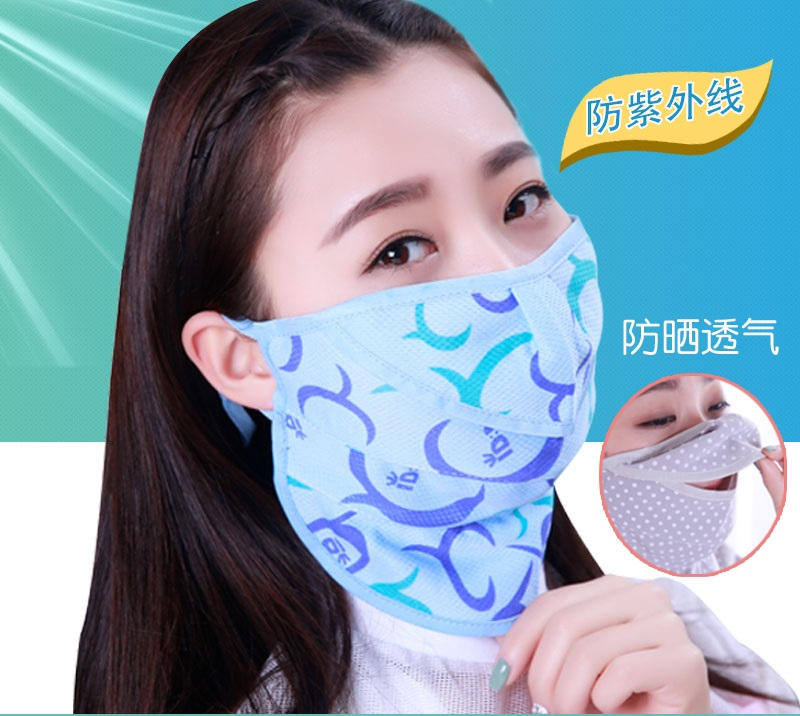face_mask: (262, 64, 591, 474)
